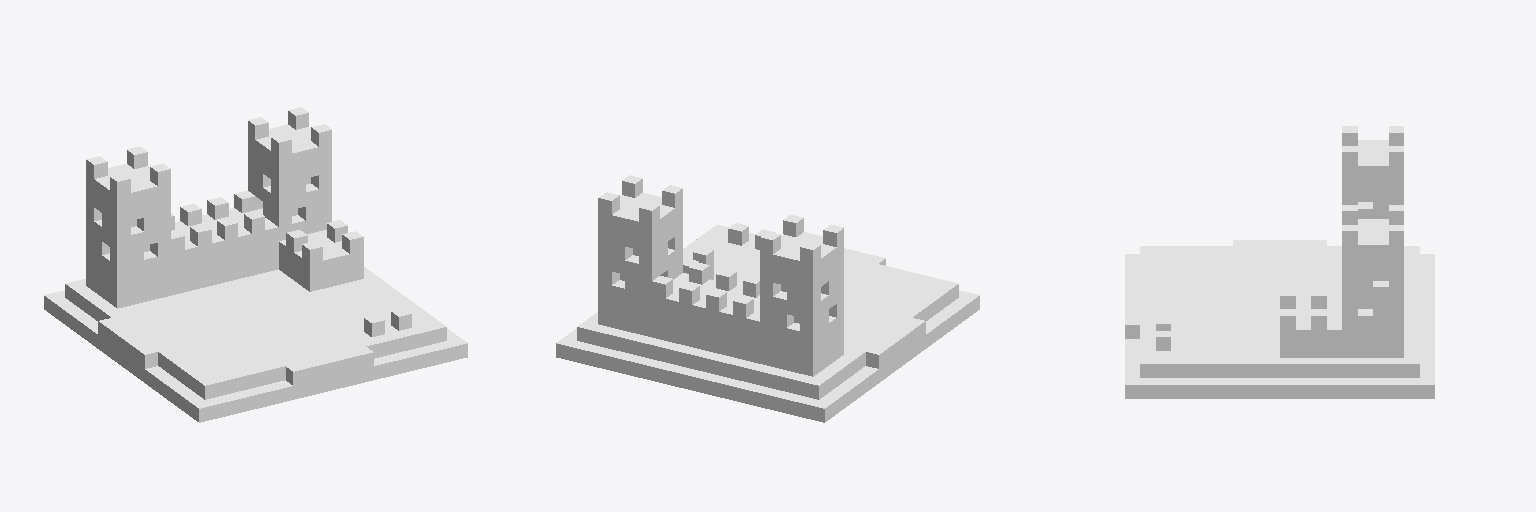
Rendered from cornerfort.obj.
The picture shows the model from 3 angles: view 1: azimuth 30°, elevation 25°; view 2: azimuth 150°, elevation 25°; view 3: azimuth 270°, elevation 25°; orthographic projection.
Size of the model in its own units: 20 by 11 by 20.